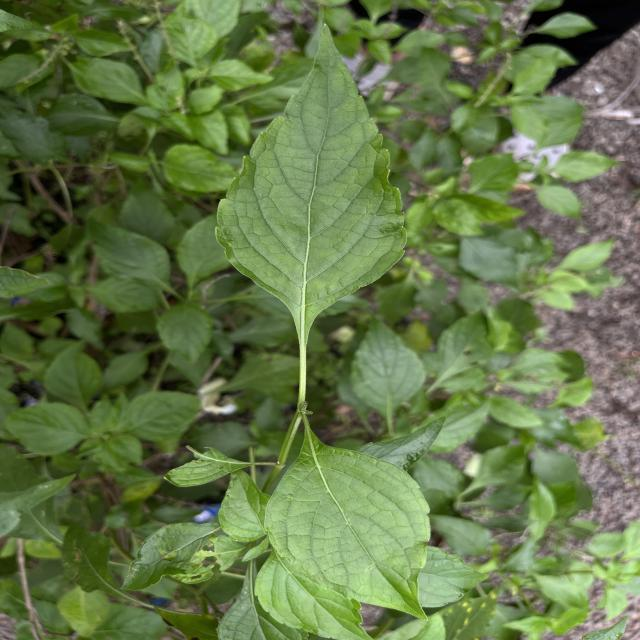Ocimum gratissimum: (211, 19, 410, 356), (261, 427, 434, 623)
